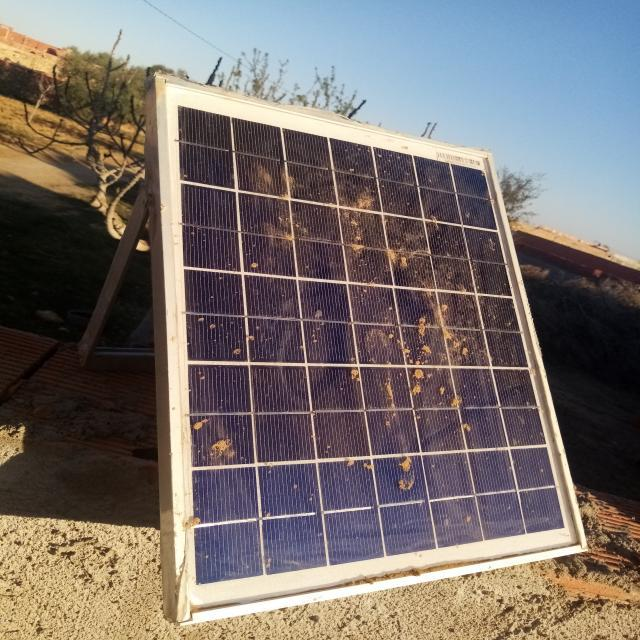faulty: (158, 74, 589, 620)
